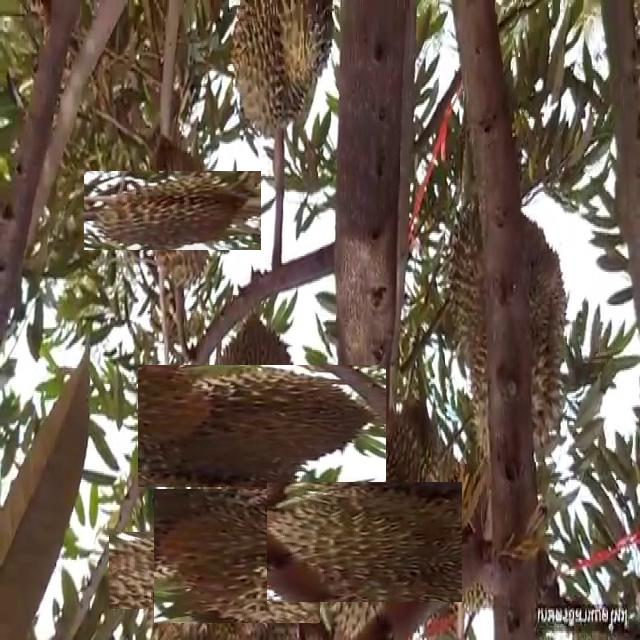durian: (170, 333, 355, 519), (446, 206, 572, 462), (286, 464, 444, 622), (162, 480, 312, 631), (227, 2, 337, 153), (109, 146, 237, 275), (121, 519, 225, 622)
